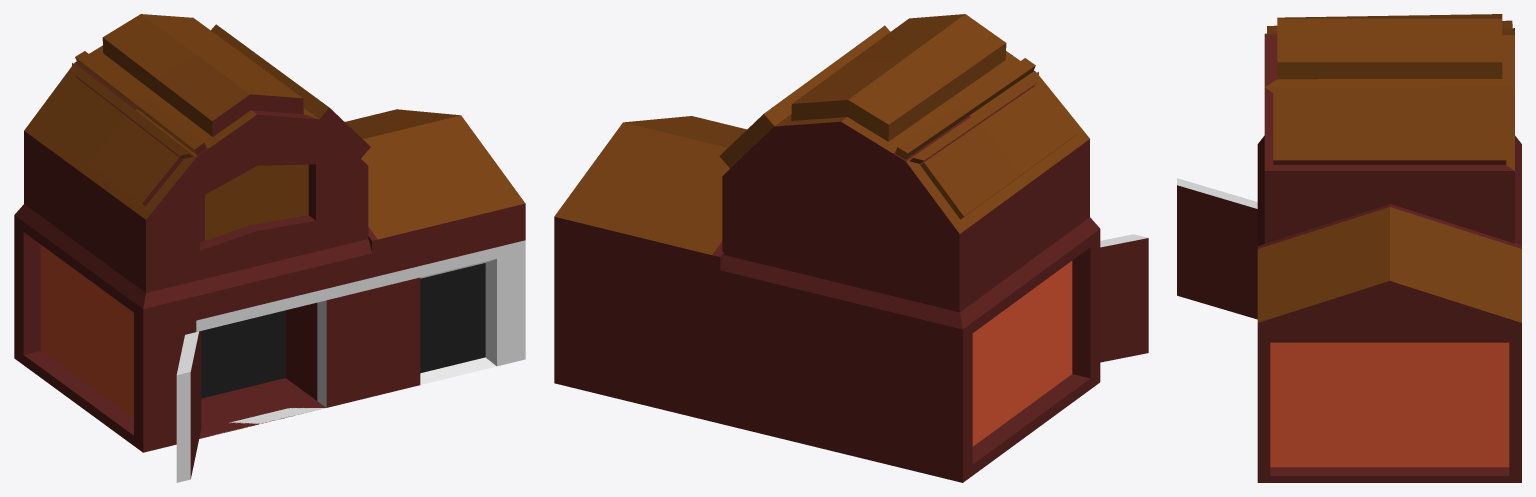
File: house 1.fbx
3 renders of one model, left to right at view 1: azimuth 30°, elevation 25°; view 2: azimuth 150°, elevation 25°; view 3: azimuth 270°, elevation 25°, orthographic. The views are drawn at different scales.
Visible parts, largest first — view 1: Cube; view 2: Cube; view 3: Cube.
Part boxes in pixels (<box>): Cube: <box>14,14,525,482</box>; Cube: <box>554,14,1148,482</box>; Cube: <box>1177,14,1521,482</box>.
Size of the model in its own units: 1009 by 802 by 757.
